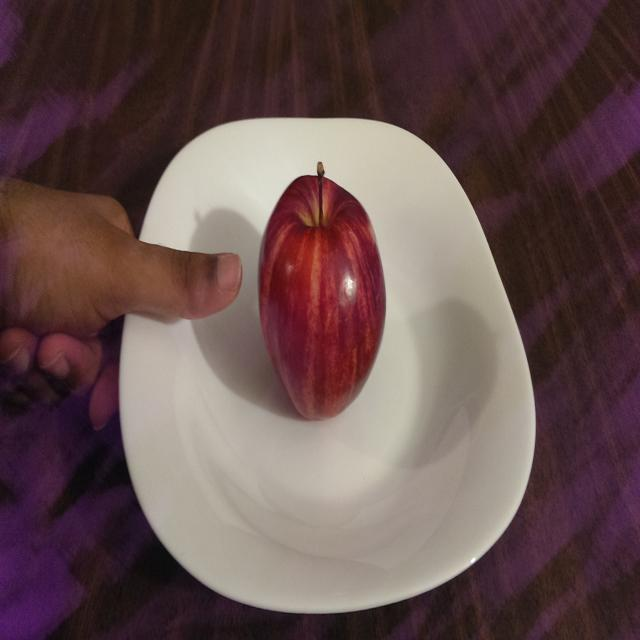apple: (256, 151, 390, 435)
